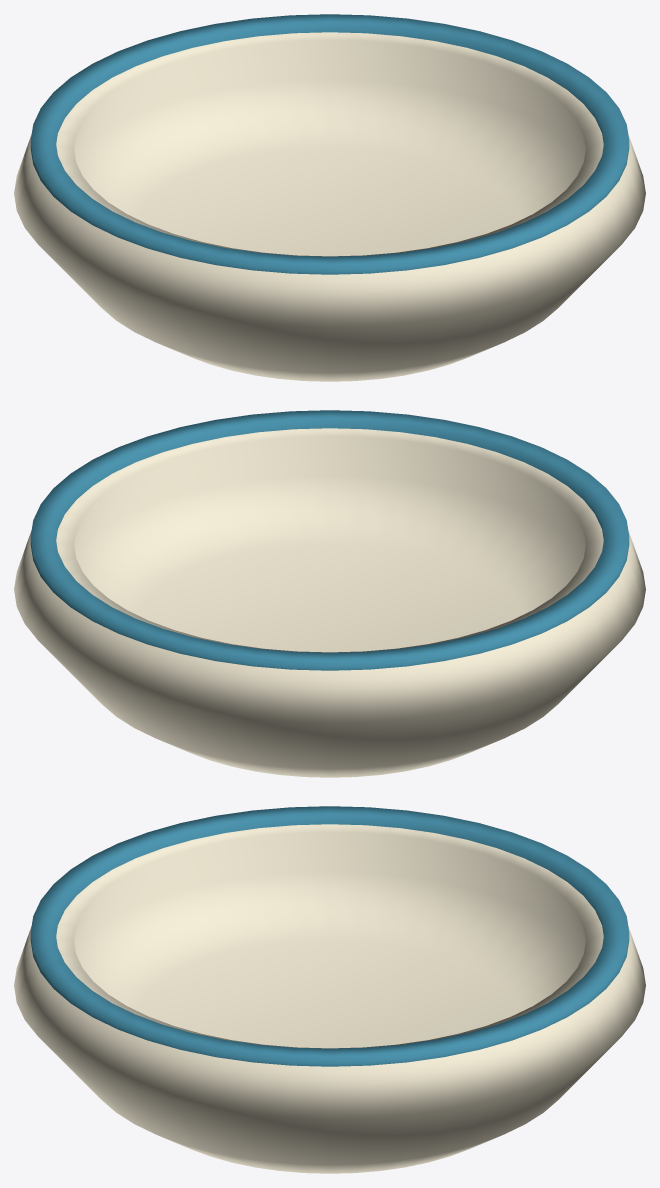
File: fantasy-bathhouse-and-thermal-sanctuary-fantasy-bathho-c315089b__29465.glb
3 renders of one model, top to bottom at view 1: azimuth 30°, elevation 25°; view 2: azimuth 150°, elevation 25°; view 3: azimuth 270°, elevation 25°, orthographic.
Visible parts, largest first — view 1: fantasy-bathhouse-and-thermal-sanctuary-washing-bowl; view 2: fantasy-bathhouse-and-thermal-sanctuary-washing-bowl; view 3: fantasy-bathhouse-and-thermal-sanctuary-washing-bowl.
Part boxes in pixels (bbox=[...]): fantasy-bathhouse-and-thermal-sanctuary-washing-bowl: bbox=[14, 14, 645, 381]; fantasy-bathhouse-and-thermal-sanctuary-washing-bowl: bbox=[14, 410, 645, 777]; fantasy-bathhouse-and-thermal-sanctuary-washing-bowl: bbox=[14, 806, 645, 1173].
Bounding box in the file's own units: 0.76 × 0.21 × 0.76.
